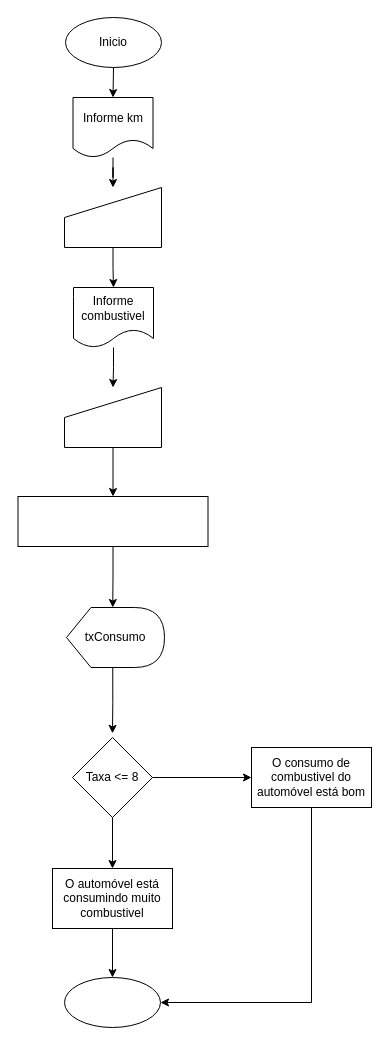
The diagram is 389 pixels wide and 1045 high, and some of its shapes have lost their labels. The box of each missing label's shape, as (x1, y1, x2, y2) in pixels:
comb: (64, 386, 162, 448)
Fim: (64, 976, 160, 1028)
km: (64, 186, 162, 248)
txConsumo <-- km/comb: (17, 496, 208, 546)
